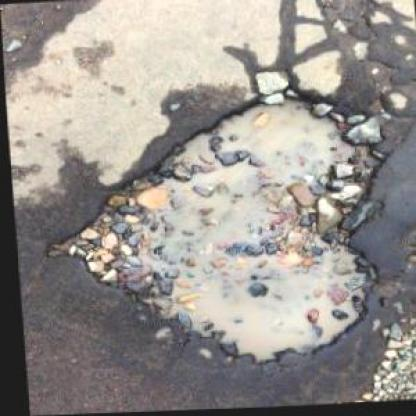pothole: (33, 85, 401, 376)
